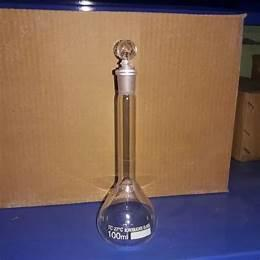Volumetric flask: (95, 35, 157, 245)
